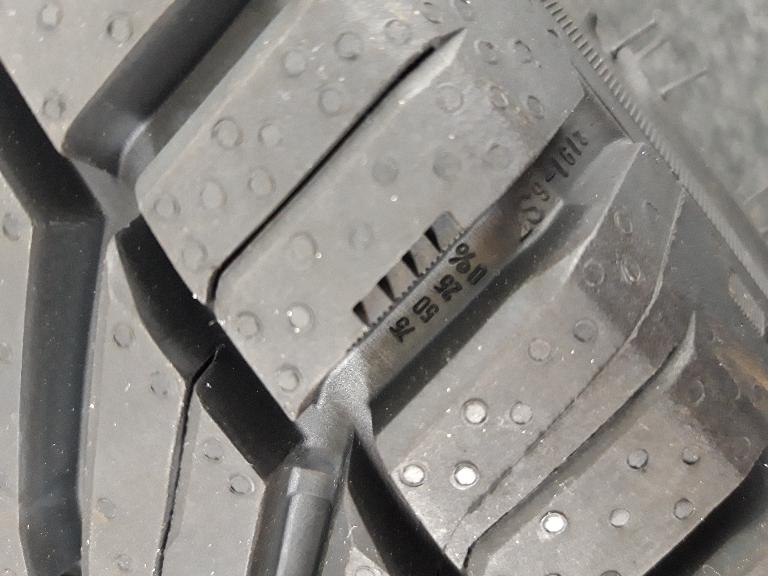temoin:100: (342, 207, 471, 356)
